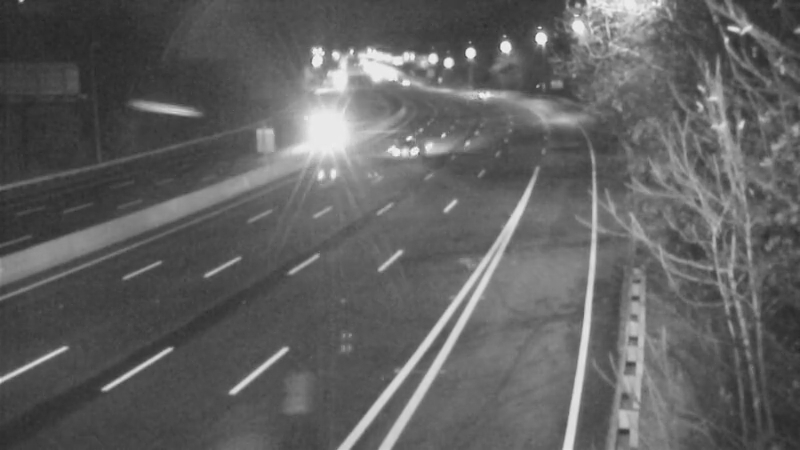vehicle: (372, 111, 452, 191), (474, 65, 524, 115), (292, 111, 342, 161)
